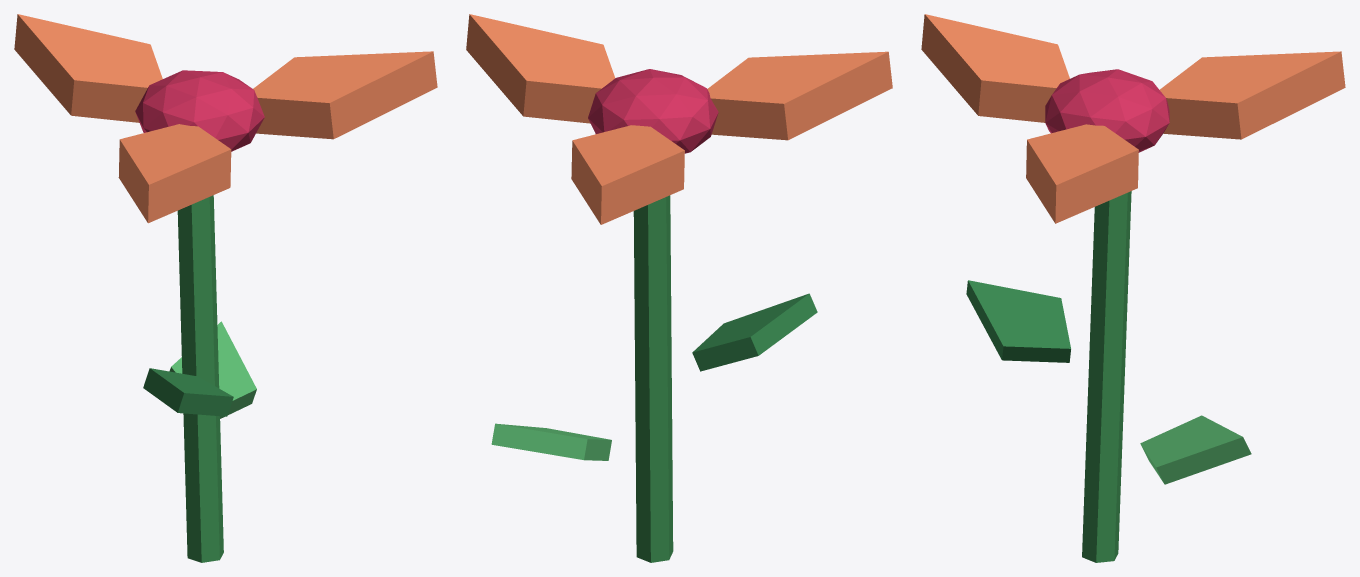
File: MiniFlower_3Petal_Coral.glb
3 views of the same model, side by side, from view 1: azimuth 30°, elevation 25°; view 2: azimuth 150°, elevation 25°; view 3: azimuth 270°, elevation 25° (orthographic).
Visible parts, largest first — view 1: MiniFlower_3Petal_Coral Stem, MiniFlower_3Petal_Coral Petal 3, MiniFlower_3Petal_Coral Petal 1, MiniFlower_3Petal_Coral Petal 2, MiniFlower_3Petal_Coral Center, MiniFlower_3Petal_Coral Leaf -1, MiniFlower_3Petal_Coral Leaf 1; view 2: MiniFlower_3Petal_Coral Stem, MiniFlower_3Petal_Coral Petal 2, MiniFlower_3Petal_Coral Petal 3, MiniFlower_3Petal_Coral Petal 1, MiniFlower_3Petal_Coral Center, MiniFlower_3Petal_Coral Leaf -1, MiniFlower_3Petal_Coral Leaf 1; view 3: MiniFlower_3Petal_Coral Stem, MiniFlower_3Petal_Coral Petal 1, MiniFlower_3Petal_Coral Petal 2, MiniFlower_3Petal_Coral Petal 3, MiniFlower_3Petal_Coral Center, MiniFlower_3Petal_Coral Leaf -1, MiniFlower_3Petal_Coral Leaf 1.
Boxes of the visible parts, left/top/right/bottom form: MiniFlower_3Petal_Coral Stem: left=177, top=195, right=223, bottom=562; MiniFlower_3Petal_Coral Petal 3: left=253, top=51, right=437, bottom=139; MiniFlower_3Petal_Coral Petal 1: left=14, top=14, right=162, bottom=122; MiniFlower_3Petal_Coral Petal 2: left=118, top=124, right=231, bottom=223; MiniFlower_3Petal_Coral Center: left=135, top=70, right=264, bottom=151; MiniFlower_3Petal_Coral Leaf -1: left=143, top=368, right=233, bottom=416; MiniFlower_3Petal_Coral Leaf 1: left=169, top=321, right=256, bottom=418; MiniFlower_3Petal_Coral Stem: left=633, top=195, right=673, bottom=562; MiniFlower_3Petal_Coral Petal 2: left=707, top=51, right=892, bottom=140; MiniFlower_3Petal_Coral Petal 3: left=466, top=14, right=614, bottom=123; MiniFlower_3Petal_Coral Petal 1: left=571, top=125, right=684, bottom=224; MiniFlower_3Petal_Coral Center: left=588, top=69, right=718, bottom=153; MiniFlower_3Petal_Coral Leaf -1: left=692, top=293, right=817, bottom=371; MiniFlower_3Petal_Coral Leaf 1: left=491, top=423, right=611, bottom=460; MiniFlower_3Petal_Coral Stem: left=1082, top=191, right=1131, bottom=562; MiniFlower_3Petal_Coral Petal 1: left=1159, top=51, right=1345, bottom=139; MiniFlower_3Petal_Coral Petal 2: left=921, top=14, right=1069, bottom=122; MiniFlower_3Petal_Coral Petal 3: left=1026, top=124, right=1138, bottom=223; MiniFlower_3Petal_Coral Center: left=1045, top=69, right=1169, bottom=152; MiniFlower_3Petal_Coral Leaf -1: left=966, top=280, right=1070, bottom=362; MiniFlower_3Petal_Coral Leaf 1: left=1140, top=415, right=1251, bottom=484.
Size of the model in its own units: 0.3876 by 0.4952 by 0.3986.
